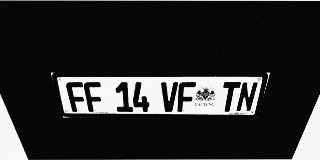1: (114, 82, 133, 112)
4: (132, 82, 149, 112)
F: (65, 82, 88, 112), (83, 82, 105, 112), (177, 82, 196, 112)
N: (235, 82, 259, 112)
T: (219, 82, 241, 112)
V: (161, 82, 178, 112)
